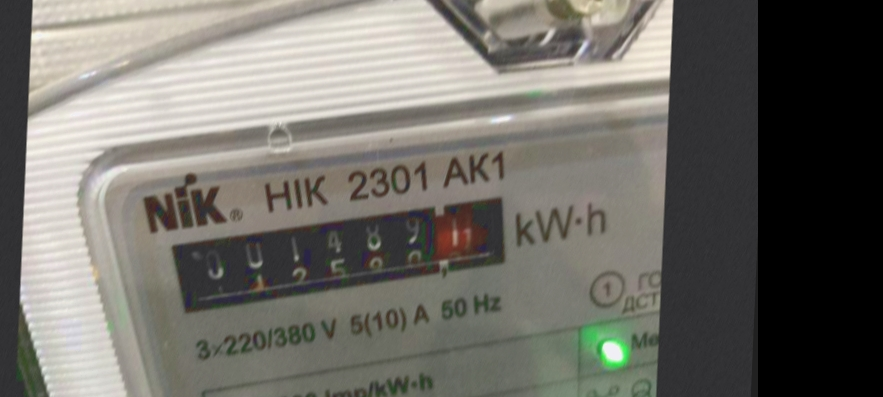0: (238, 235, 265, 272), (199, 247, 225, 283)
1: (442, 212, 462, 251), (282, 233, 303, 265)
4: (320, 225, 344, 256)
8: (361, 218, 383, 255)
9: (400, 214, 421, 247)
screen: (154, 174, 535, 341)
